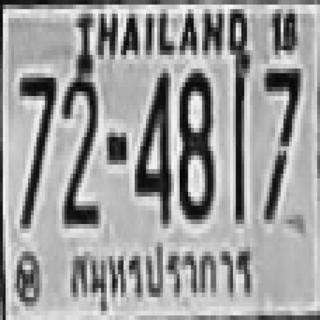N02: (60, 73, 97, 224)
N04: (134, 70, 171, 220)
N07: (18, 73, 55, 224), (264, 64, 298, 220)
N08: (177, 69, 213, 219)
P57: (67, 239, 260, 307)
